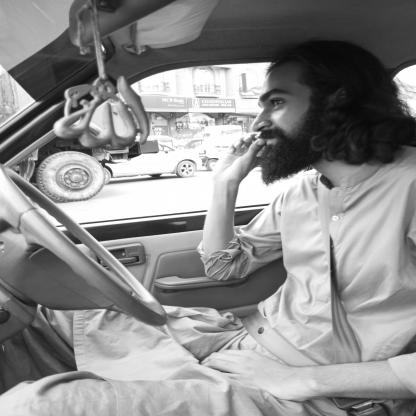seatbelt: (248, 37, 416, 328)
